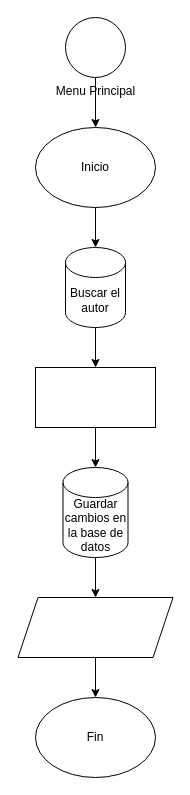
Image size: 190x795. Some labels were removed from this diagram. Here are the shapes that lost their labels. From the top down, the centre of each, then its label:
(x=95, y=397): Modificar los datos requeridos
(x=95, y=627): Confirmar actualizacion exitosa
